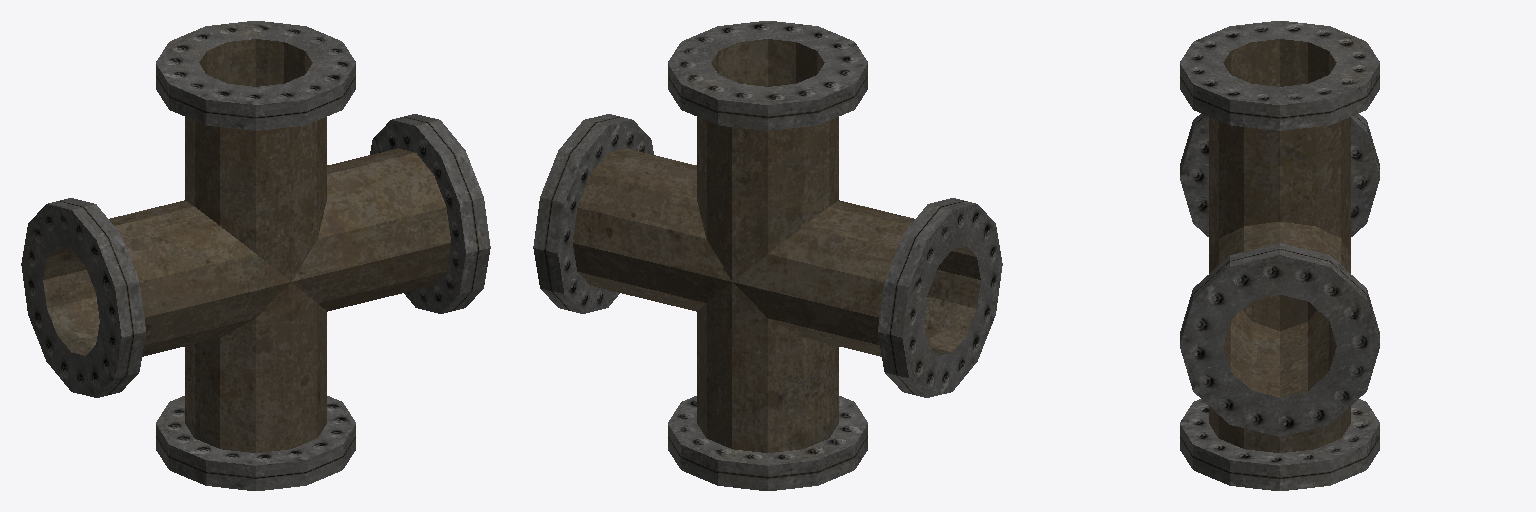
The picture shows the model from 3 angles: view 1: azimuth 30°, elevation 25°; view 2: azimuth 150°, elevation 25°; view 3: azimuth 270°, elevation 25°; orthographic projection.
Parts seen in each view (by area): view 1: crosspiece_open; view 2: crosspiece_open; view 3: crosspiece_open.
Part boxes in pixels (x1,y1,x2,y2): crosspiece_open: (21,21,490,490); crosspiece_open: (533,21,1002,490); crosspiece_open: (1180,21,1379,490).
Bounding box in the file's own units: 1.5 × 1.5 × 0.7071.
Materials: 1 (1 with a texture image).